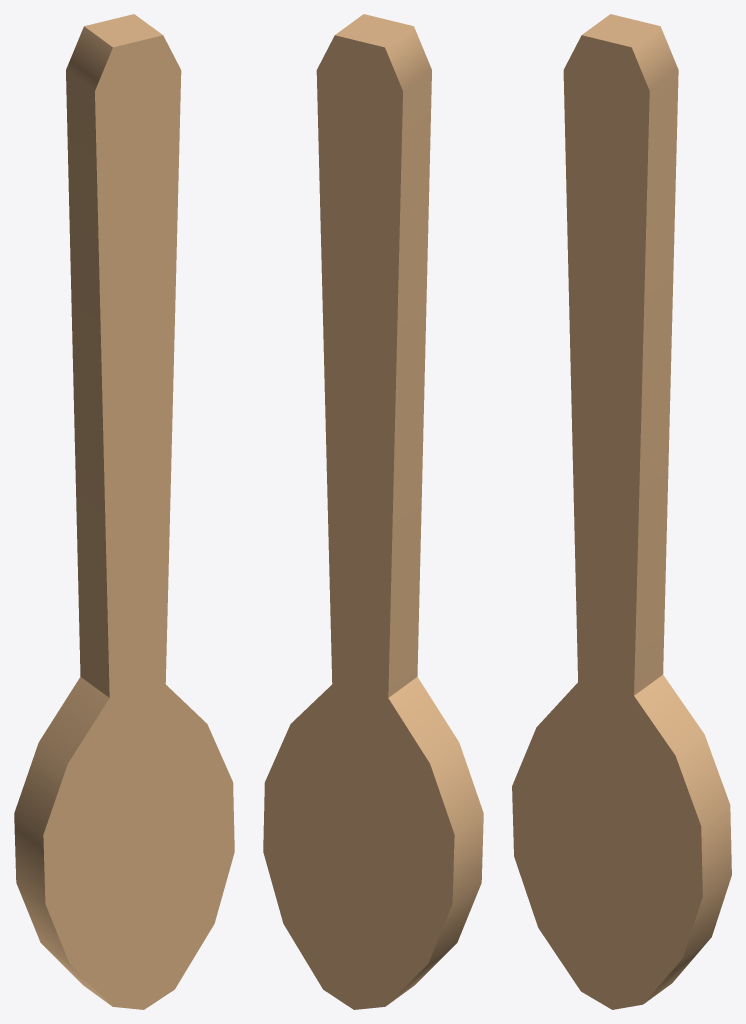
The model's file is wooden_spoon_model.fbx.
3 views of the same model, side by side, from view 1: azimuth 30°, elevation 25°; view 2: azimuth 150°, elevation 25°; view 3: azimuth 330°, elevation 25° (orthographic).
Visible parts, largest first — view 1: spoon_geo_pCube2; view 2: spoon_geo_pCube2; view 3: spoon_geo_pCube2.
Boxes of the visible parts, <box> form: spoon_geo_pCube2: <box>14,14,234,1009</box>; spoon_geo_pCube2: <box>263,14,483,1009</box>; spoon_geo_pCube2: <box>512,14,731,1009</box>.
Size of the model in its own units: 0.3175 by 1.54 by 0.0839.
